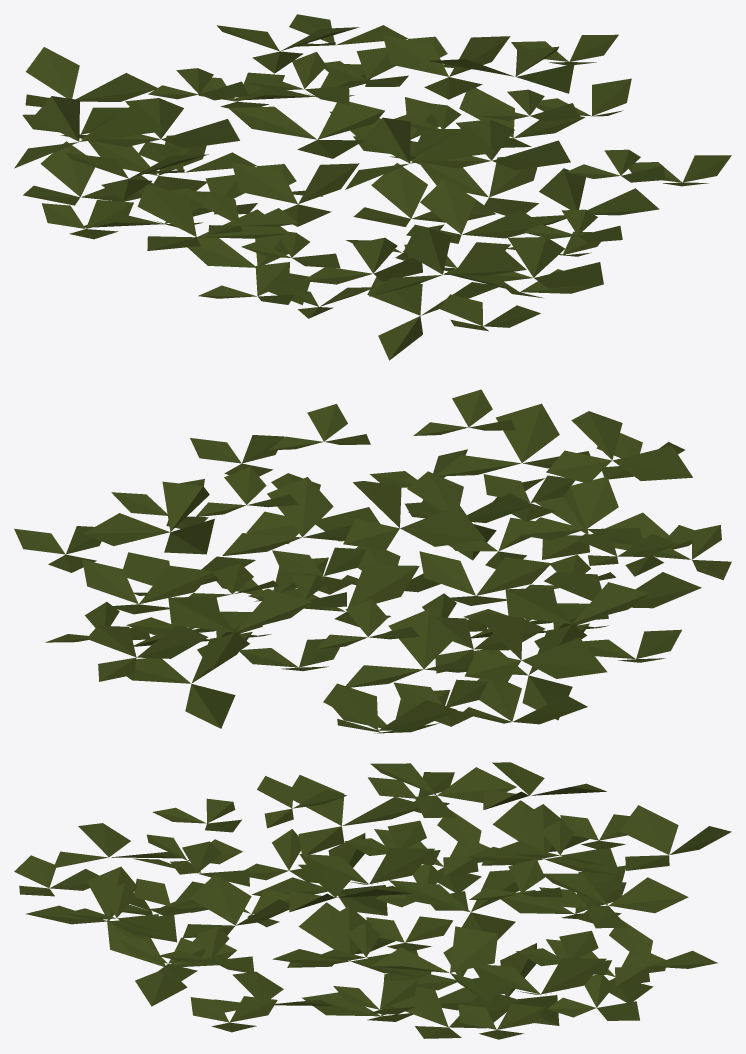
Rendered from SM_Clover_Group_B.fbx.
3 renders of one model, top to bottom at view 1: azimuth 30°, elevation 25°; view 2: azimuth 150°, elevation 25°; view 3: azimuth 270°, elevation 25°, orthographic. The views are drawn at different scales.
Visible parts, largest first — view 1: clover-group-b; view 2: clover-group-b; view 3: clover-group-b.
Boxes of the visible parts, x1=… form: clover-group-b: x1=14, y1=14, x2=731, y2=360; clover-group-b: x1=14, y1=389, x2=731, y2=733; clover-group-b: x1=14, y1=762, x2=731, y2=1039.
Size of the model in its own units: 0.895 by 0.1501 by 0.9825.
